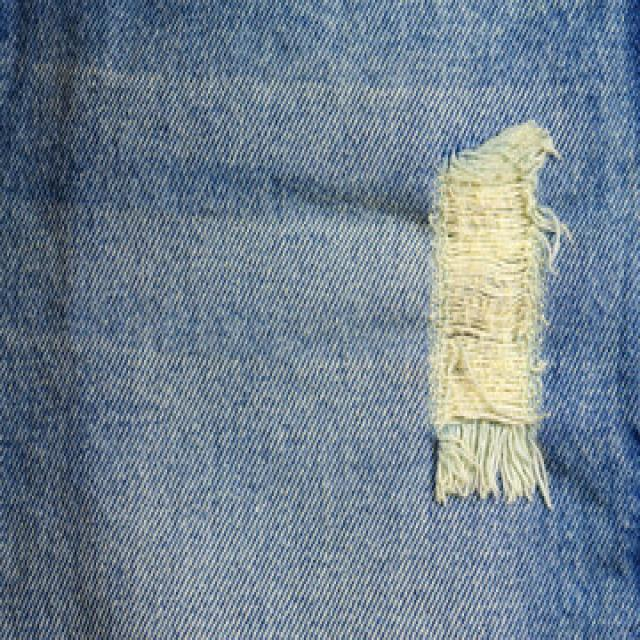Hole: (430, 121, 570, 508)
